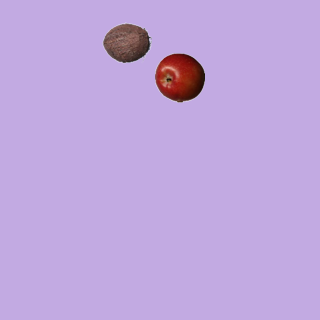Apple Braeburn: (154, 52, 204, 102)
Cocos: (101, 17, 151, 67)
